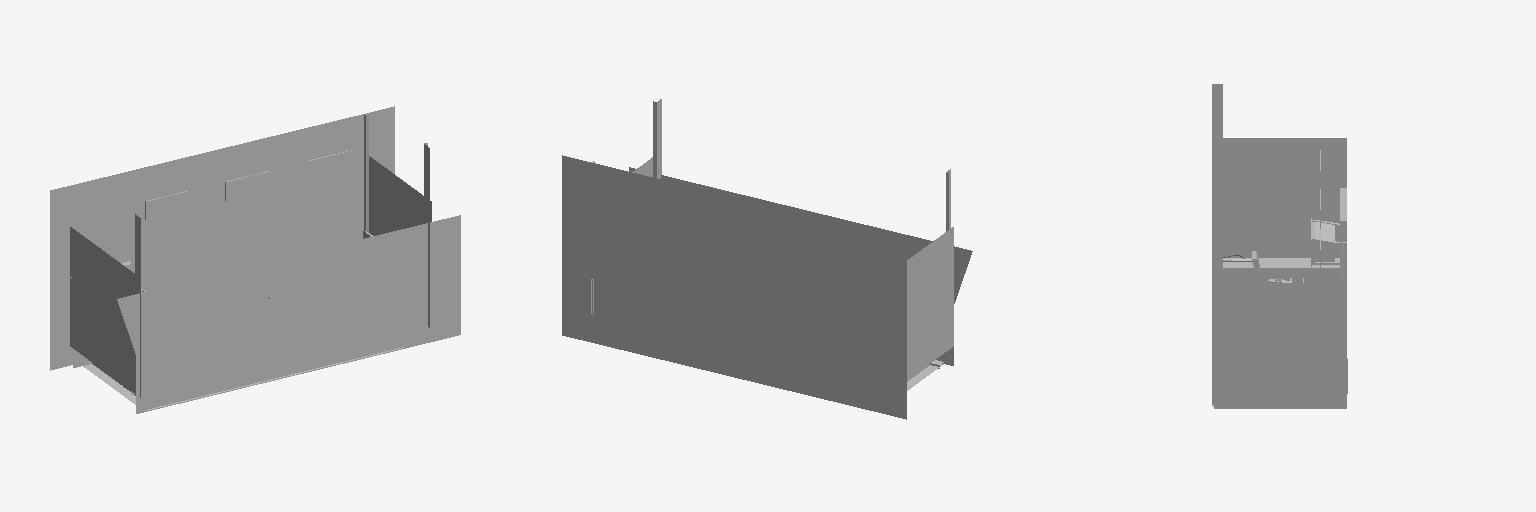
The model's file is Room2.obj.
3 views of the same model, side by side, from view 1: azimuth 30°, elevation 25°; view 2: azimuth 150°, elevation 25°; view 3: azimuth 270°, elevation 25° (orthographic).
Parts seen in each view (by area): view 1: unnamed_object1; view 2: unnamed_object1; view 3: unnamed_object1.
Boxes of the visible parts, x1,y1,x2,y2 form: unnamed_object1: [50, 106, 460, 413]; unnamed_object1: [562, 99, 972, 419]; unnamed_object1: [1212, 84, 1347, 408].
Bounding box in the file's own units: 900 × 495 × 307.